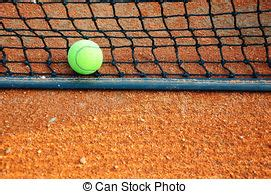tennis_ball: (67, 39, 103, 75)
